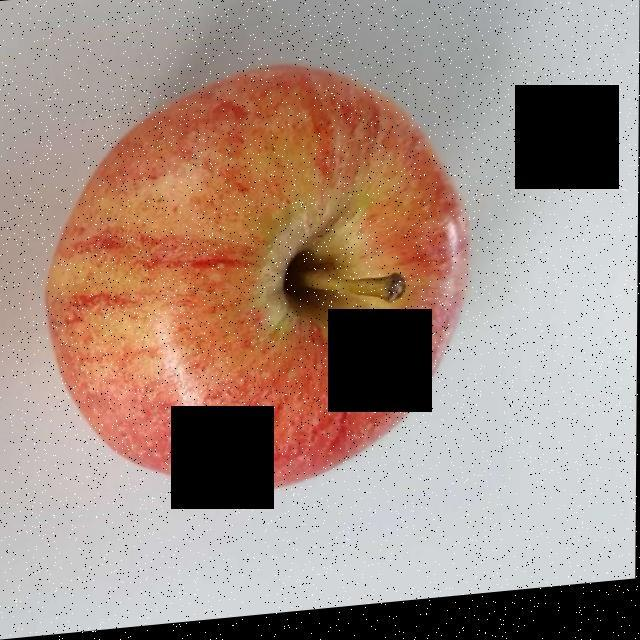apple: (57, 75, 459, 487)
